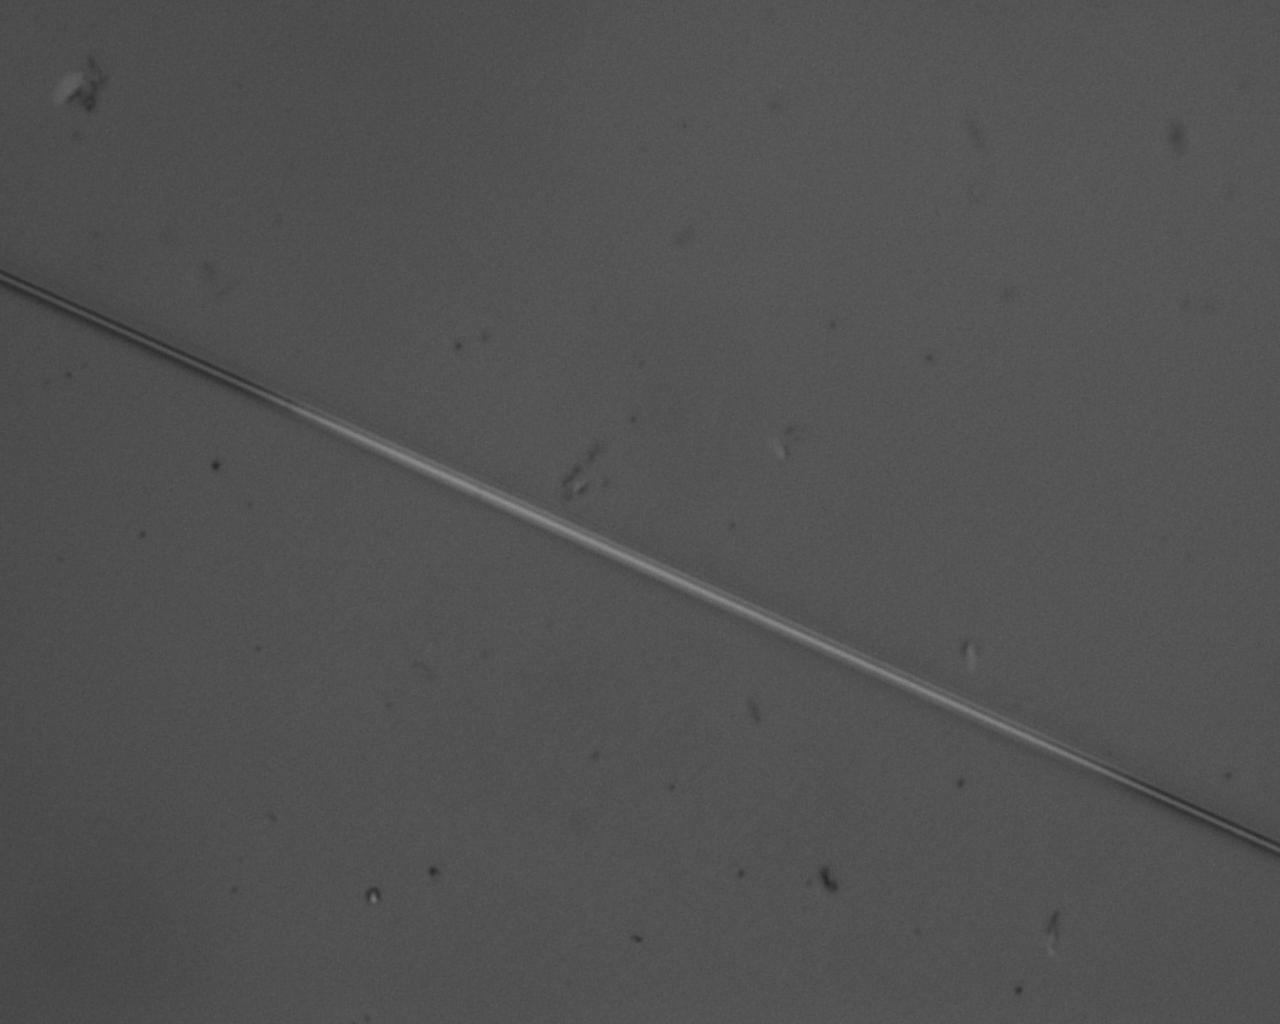fiber: (0, 269, 1280, 859)
